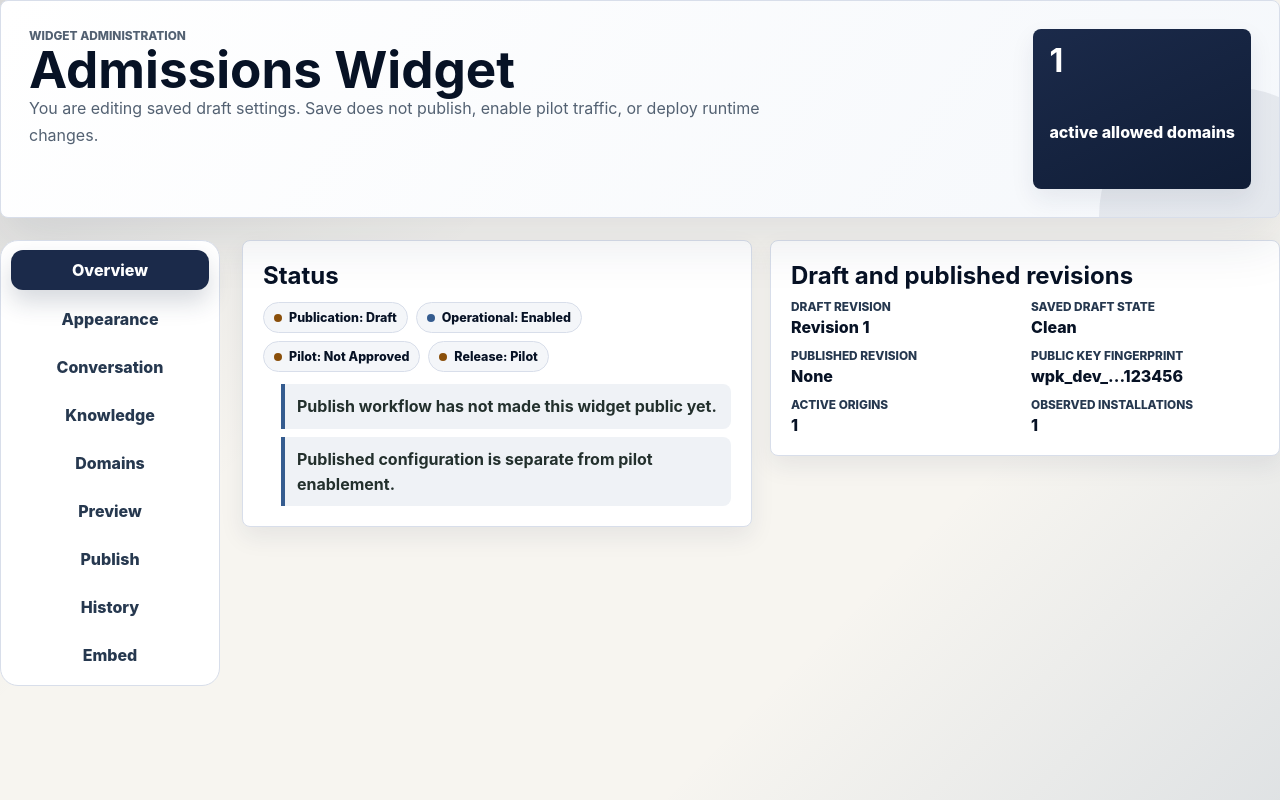
widget administration frontend › adds origins and refreshes embed readiness
Click the tab "Domains": x=110, y=463 [11,443,209,483]
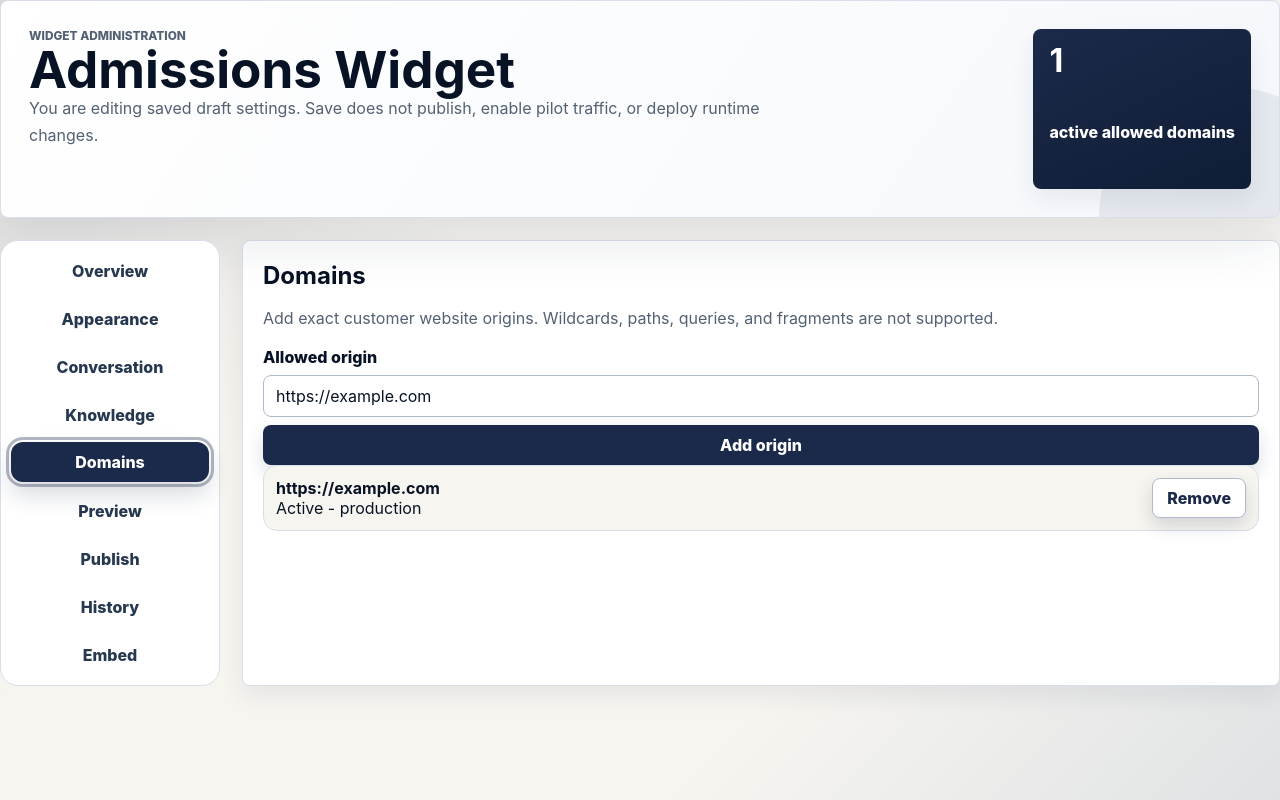
In the field labelled "Allowed origin": x=761, y=396 [263,375,1259,417], type "https://second.example"
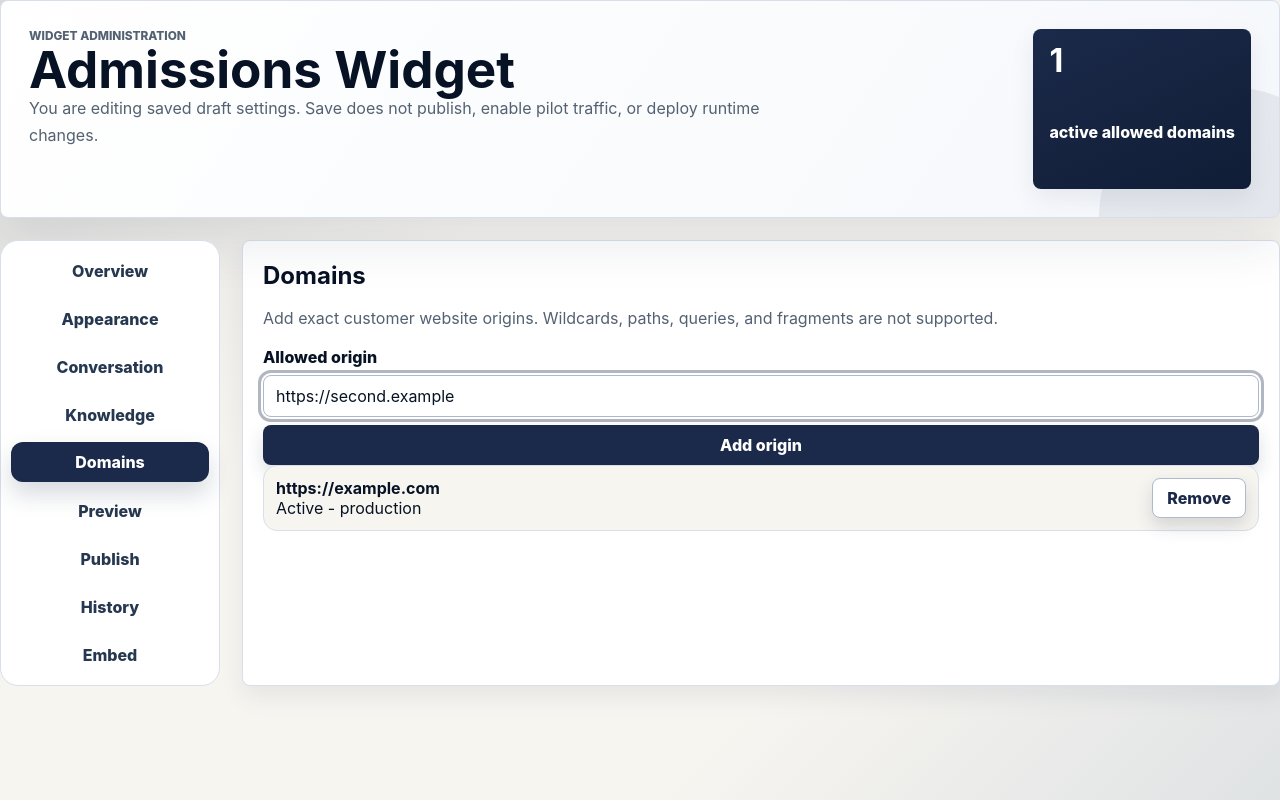
Click the button "Add origin": x=761, y=445 [263,425,1259,465]
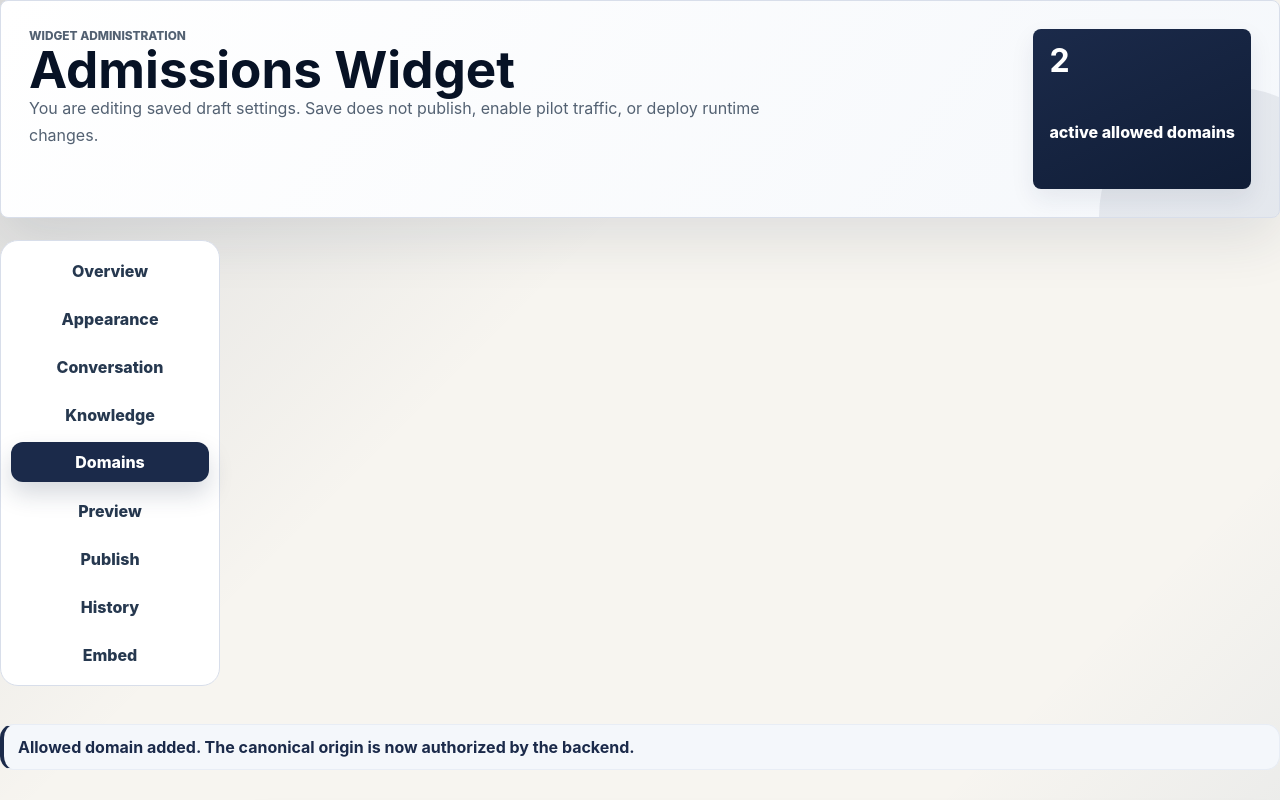
Expected: the text "Allowed domain added. The canonical origin is now authorized by the backend." is shown, [0,724,1279,770]
